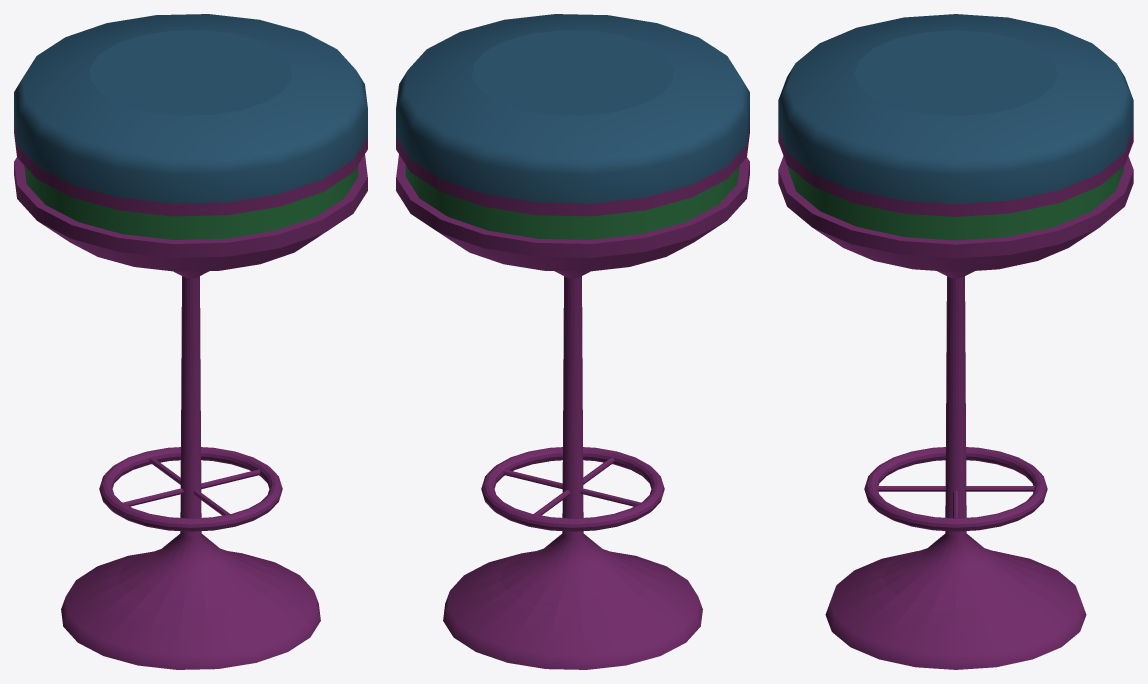
Rendered from SM_Tabouret.fbx.
The picture shows the model from 3 angles, left to right: view 1: azimuth 30°, elevation 25°; view 2: azimuth 150°, elevation 25°; view 3: azimuth 270°, elevation 25°; orthographic projection.
Visible parts, largest first — view 1: pTorus2; view 2: pTorus2; view 3: pTorus2.
Part boxes in pixels (x1,y1,x2,y2): pTorus2: [14, 14, 367, 669]; pTorus2: [396, 14, 749, 669]; pTorus2: [778, 14, 1133, 669].
Size of the model in its own units: 3.17 by 5.34 by 3.17.
